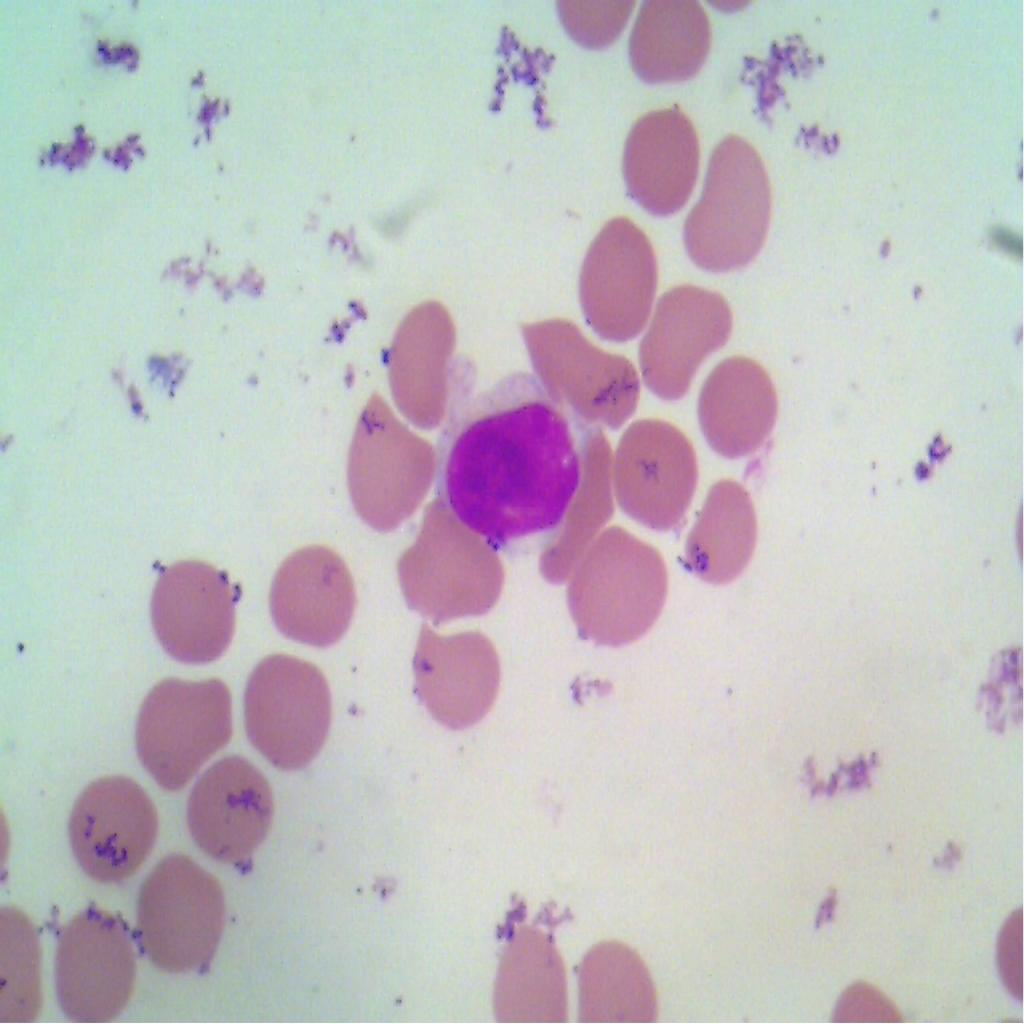Eritrosit: (518, 310, 642, 428), (343, 385, 435, 544), (682, 132, 778, 278), (570, 524, 666, 657), (126, 671, 231, 790), (130, 850, 228, 977), (400, 511, 506, 625), (241, 650, 336, 776), (599, 408, 696, 531), (639, 272, 729, 399), (406, 621, 506, 734), (188, 752, 278, 875), (614, 0, 718, 105), (58, 770, 158, 879), (150, 558, 242, 674), (580, 210, 662, 337), (389, 287, 458, 437), (268, 545, 362, 655), (54, 901, 138, 1023), (693, 348, 784, 458), (623, 98, 703, 221), (490, 924, 566, 1023), (684, 487, 755, 588), (574, 938, 654, 1023)
Limfoblast: (426, 374, 592, 550)
